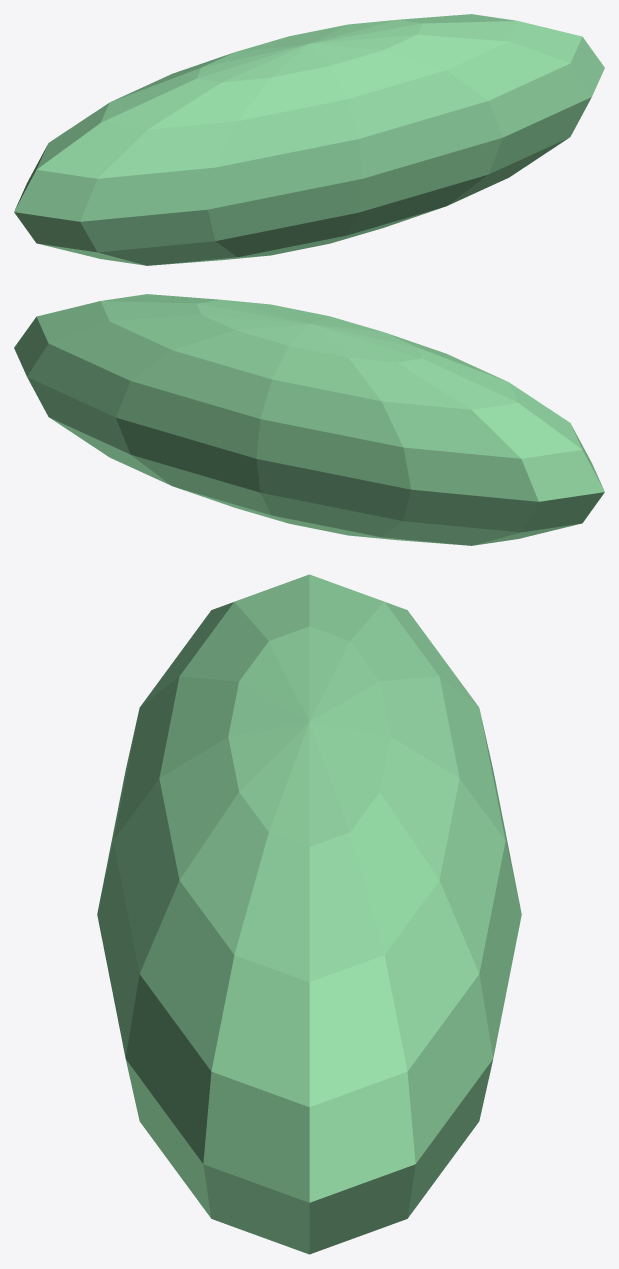
The model's file is slime_arm_L.fbx.
The picture shows the model from 3 angles, top to bottom: view 1: azimuth 30°, elevation 25°; view 2: azimuth 150°, elevation 25°; view 3: azimuth 270°, elevation 25°; orthographic projection. The views are drawn at different scales.
Visible parts, largest first — view 1: slime_arm_L_geo; view 2: slime_arm_L_geo; view 3: slime_arm_L_geo.
Boxes of the visible parts, <box> form: slime_arm_L_geo: <box>14,14,604,265</box>; slime_arm_L_geo: <box>14,294,604,545</box>; slime_arm_L_geo: <box>97,574,521,1254</box>.
Size of the model in its own units: 45 by 14 by 14.
